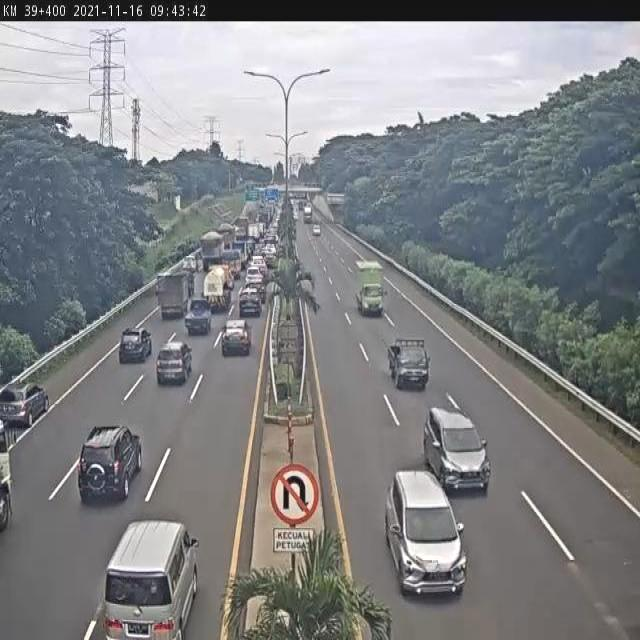Car: (384, 470, 468, 600), (422, 409, 492, 491), (81, 420, 142, 509), (2, 378, 54, 420), (389, 338, 431, 388), (154, 338, 193, 386), (118, 326, 152, 364), (185, 298, 210, 334), (220, 321, 250, 350), (238, 286, 262, 317)
Truck: (156, 266, 194, 315), (354, 260, 388, 314), (202, 265, 234, 313)
Van: (102, 517, 199, 640)
